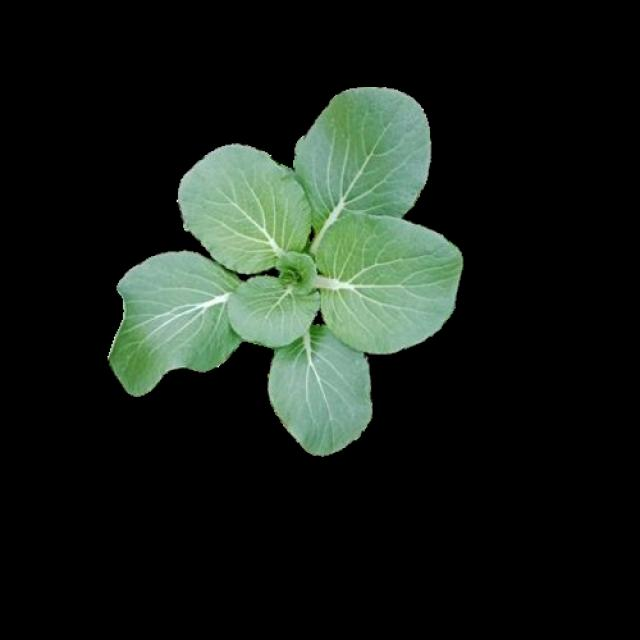healthy: (109, 85, 467, 453)
not-mature: (111, 87, 470, 456)
